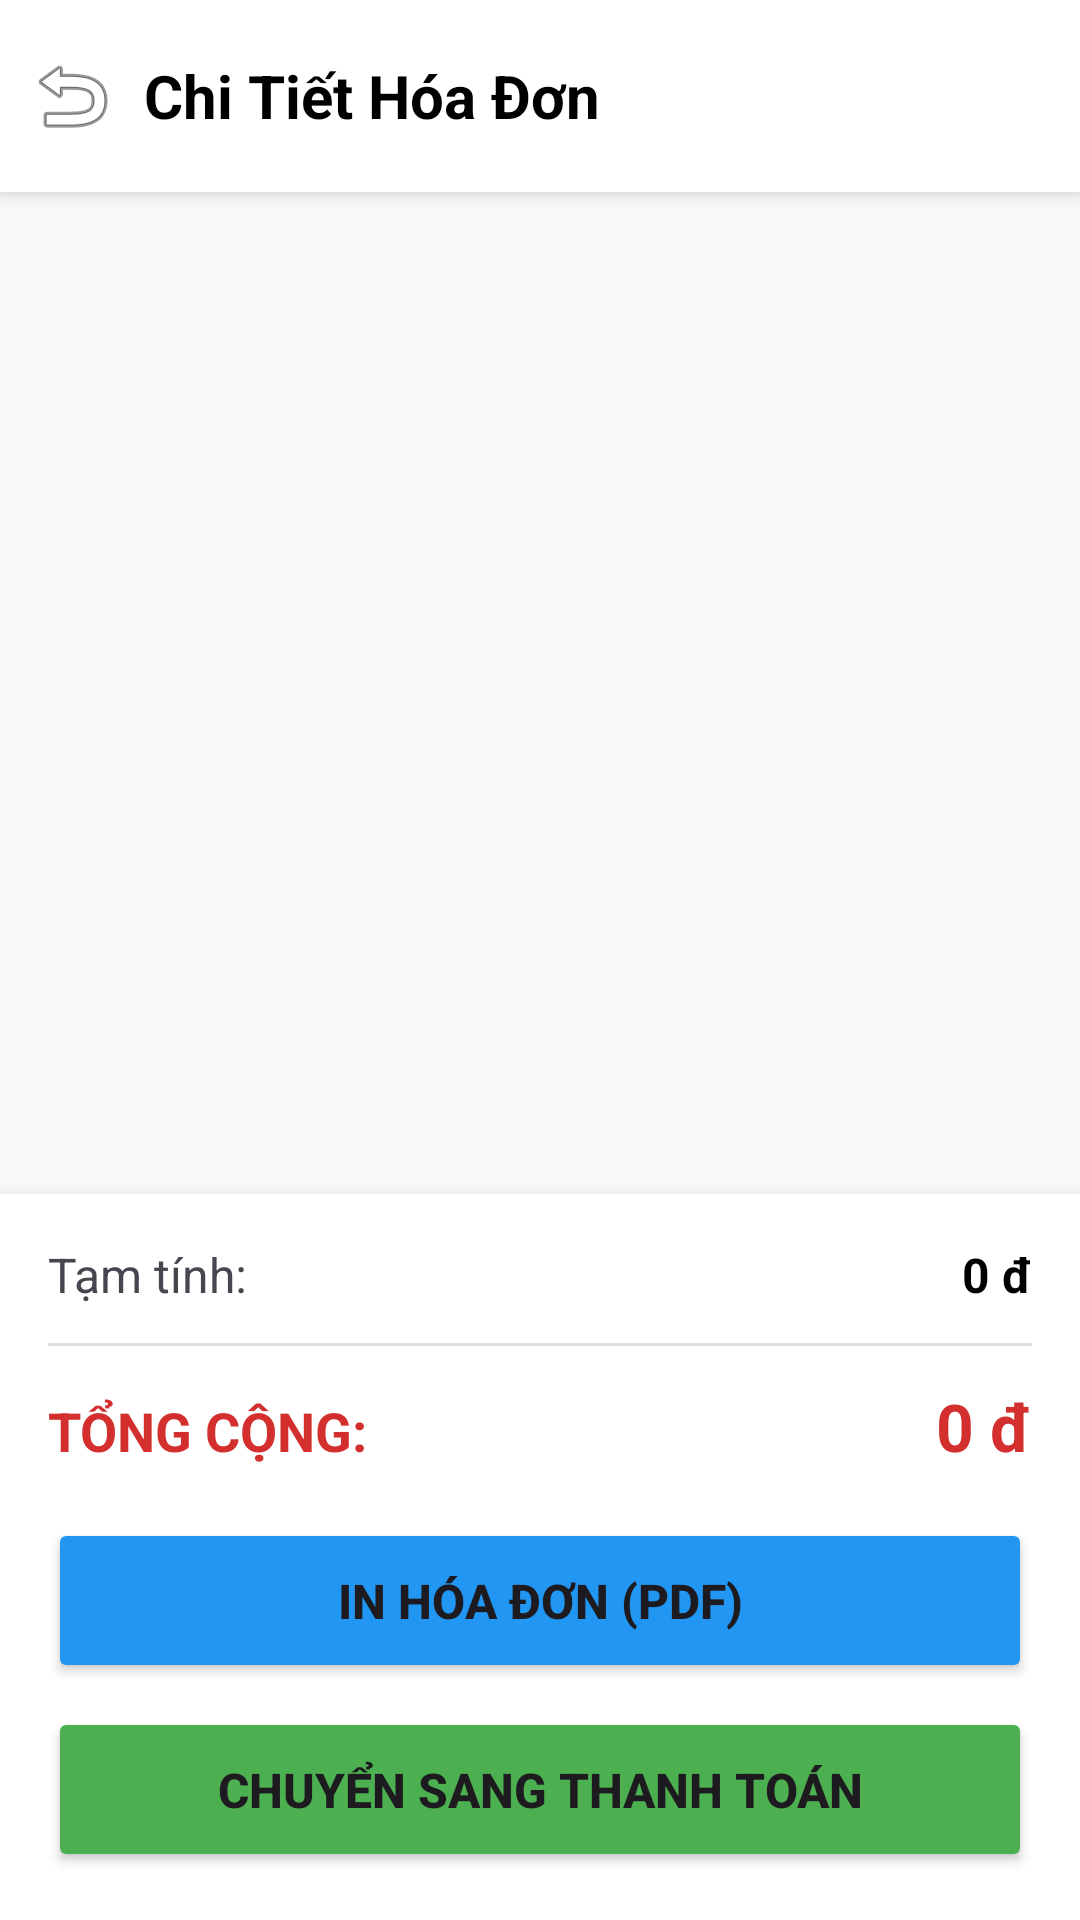

Where to tap for icons on this 1080*1920 app screen, as (x,y):
revert: (73,96)
